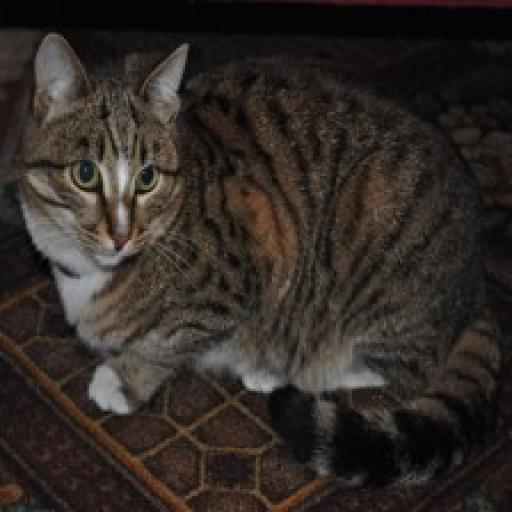cat: (16, 30, 512, 411)
